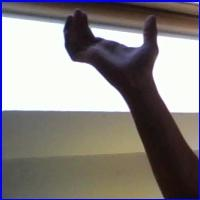space: (59, 10, 168, 79)
